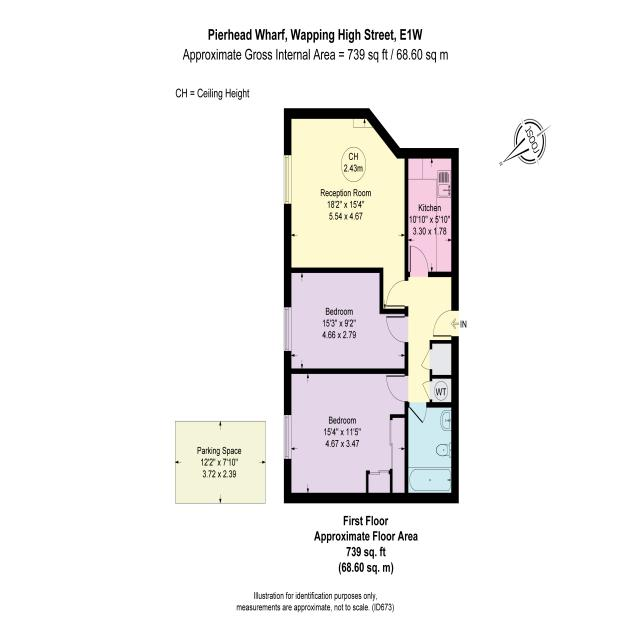DOOR: (433, 309, 459, 338), (385, 315, 409, 344), (385, 374, 408, 403), (409, 245, 429, 277), (386, 279, 408, 308), (408, 402, 427, 425)
ROOM: (284, 108, 409, 314), (284, 368, 409, 504), (284, 267, 409, 374), (404, 148, 459, 277)
WINDOW: (283, 154, 293, 205), (283, 414, 292, 461), (283, 306, 292, 353)
